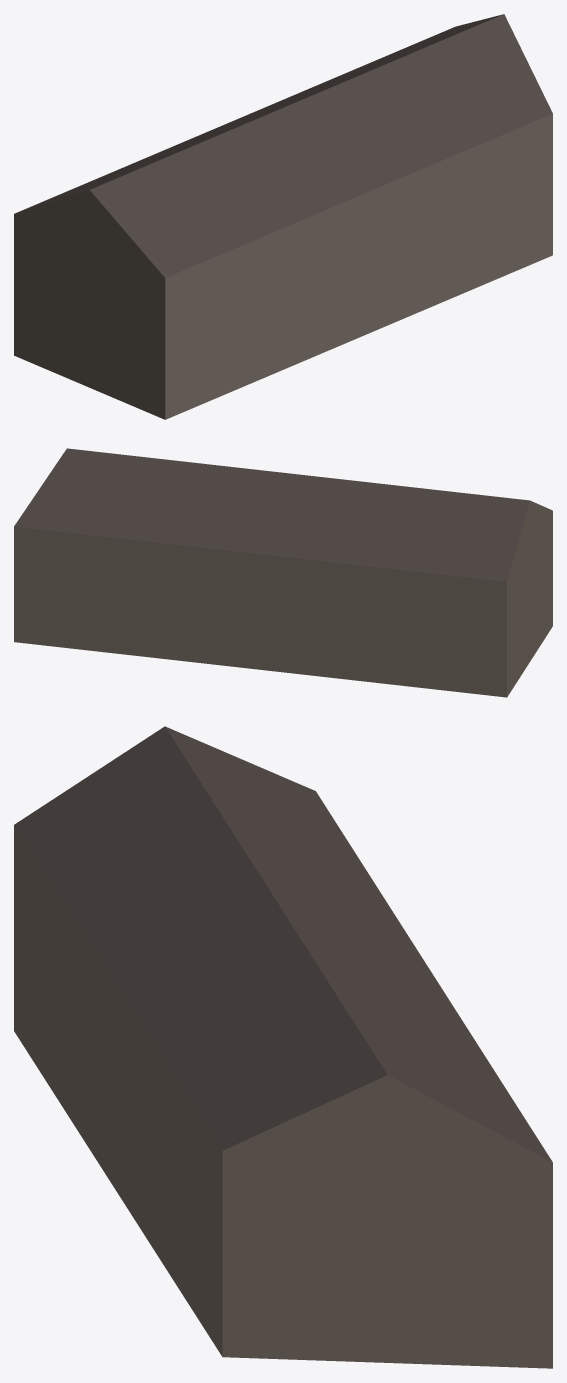
3 views of the same model, one above another, from view 1: azimuth 30°, elevation 25°; view 2: azimuth 150°, elevation 25°; view 3: azimuth 270°, elevation 25° (orthographic). The views are drawn at different scales.
Visible parts, largest first — view 1: HP-w1200813400; view 2: HP-w1200813400; view 3: HP-w1200813400.
Part boxes in pixels (x1=…): HP-w1200813400: x1=14, y1=14, x2=552, y2=419; HP-w1200813400: x1=14, y1=448, x2=552, y2=697; HP-w1200813400: x1=14, y1=726, x2=552, y2=1368.
Size of the model in its own units: 23.17 by 8.38 by 14.21.
